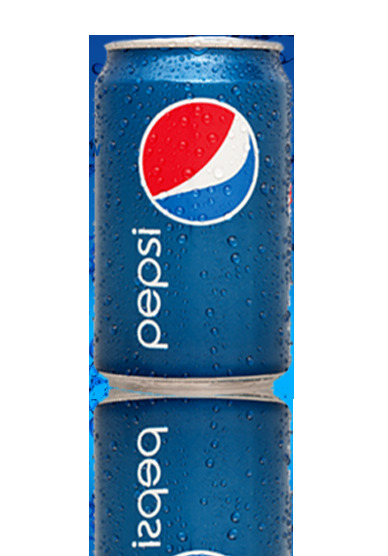pepsi: (92, 36, 289, 386)
